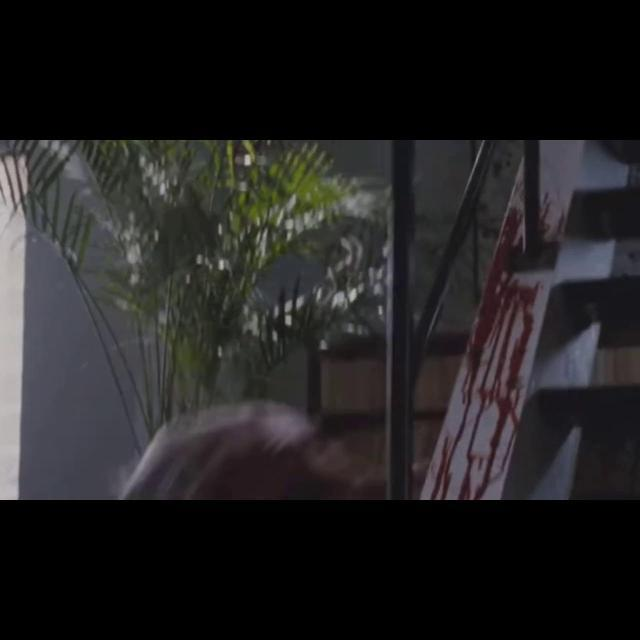blood: (420, 140, 584, 500)
